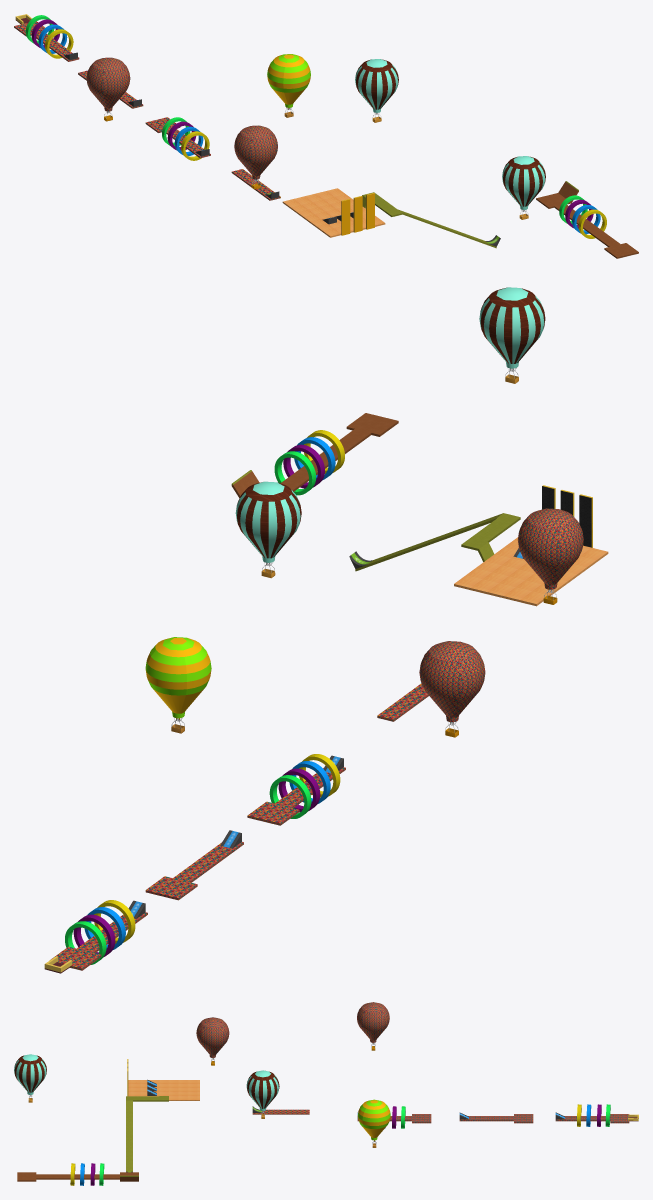
File: LEVEL 27.fbx
3 renders of one model, top to bottom at view 1: azimuth 30°, elevation 25°; view 2: azimuth 150°, elevation 25°; view 3: azimuth 270°, elevation 25°, orthographic. The views are drawn at different scales.
Visible parts, largest first — view 1: polySurface6, ballon__1_, ballon__3_, ballon_4, ballon, ballon__2_, polySurface8, polySurface10, polySurface4; view 2: polySurface6, ballon, ballon__3_, ballon__1_, ballon_4, ballon__2_, polySurface8; view 3: polySurface6, ballon__1_, ballon, ballon__2_, ballon__3_, ballon_4, polySurface4, polySurface8, polySurface9__1_, polySurface10.
Boxes of the visible parts, x1,y1,x2,y2 form: polySurface6: [282, 188, 385, 237]; ballon__1_: [86, 57, 130, 121]; ballon__3_: [234, 125, 277, 189]; ballon_4: [502, 156, 545, 219]; ballon: [267, 54, 310, 117]; ballon__2_: [355, 59, 398, 122]; polySurface8: [554, 204, 620, 246]; polySurface10: [231, 169, 280, 200]; polySurface4: [399, 210, 496, 247]; polySurface6: [454, 537, 608, 606]; ballon: [145, 637, 211, 733]; ballon__3_: [518, 508, 583, 604]; ballon__1_: [419, 641, 485, 737]; ballon_4: [479, 287, 545, 383]; ballon__2_: [235, 481, 301, 578]; polySurface8: [280, 429, 371, 491]; polySurface6: [128, 1080, 199, 1100]; ballon__1_: [357, 1002, 389, 1050]; ballon: [357, 1099, 390, 1147]; ballon__2_: [246, 1070, 279, 1118]; ballon__3_: [196, 1017, 229, 1065]; ballon_4: [14, 1054, 46, 1102]; polySurface4: [126, 1101, 132, 1171]; polySurface8: [36, 1174, 119, 1179]; polySurface9__1_: [459, 1116, 513, 1121]; polySurface10: [252, 1109, 309, 1114].
Size of the model in its own units: 11698 by 5050 by 26180.
Materials: 29 (17 with a texture image).
